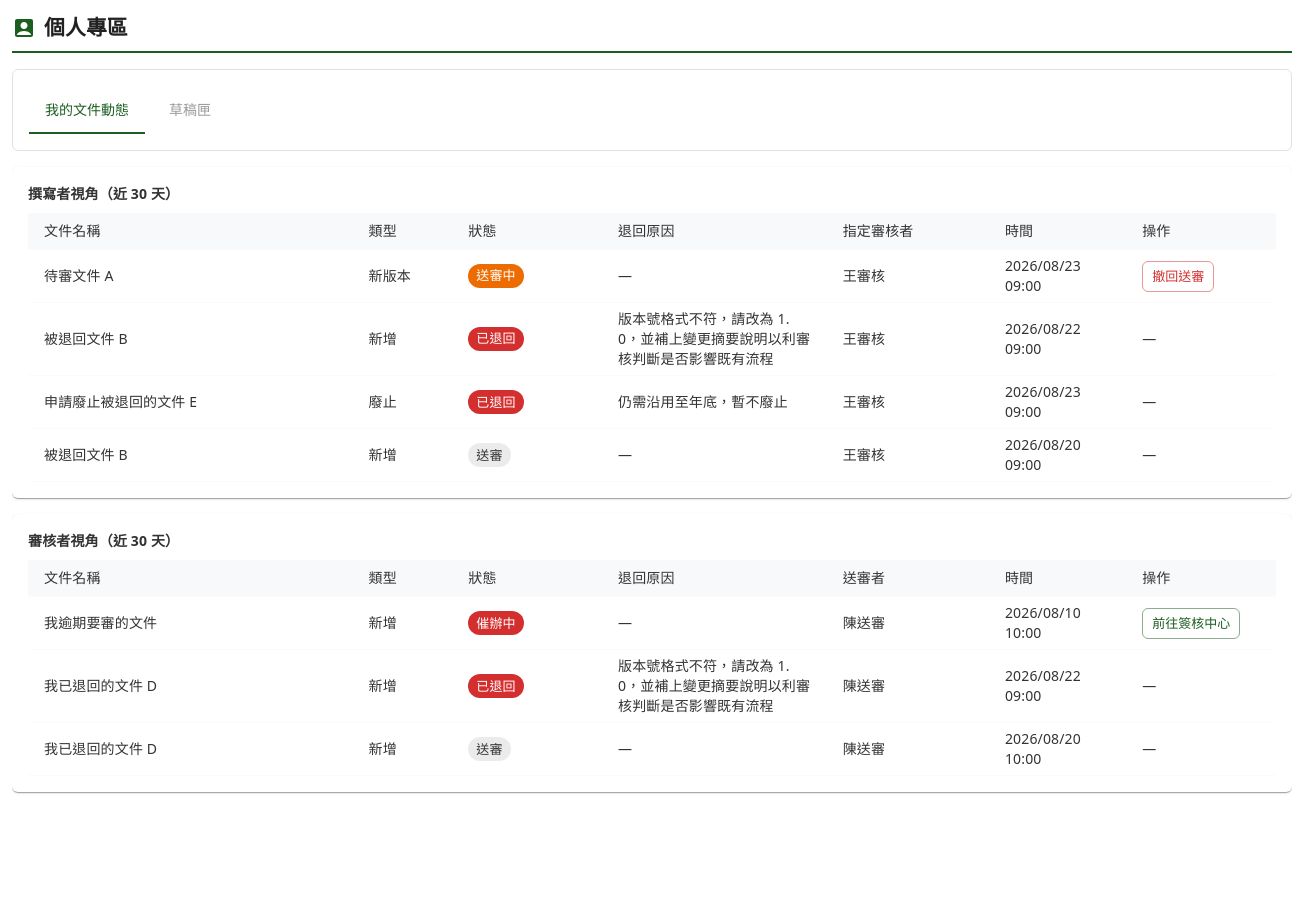
it: DmPersonalPage 個人專區（DM04） › 草稿匣：父文件在廢止待簽核時「繼續編輯」一併灰化，並說明原因（#615）
Click the tab "草稿匣" at (190, 110), box [145,86,235,134]
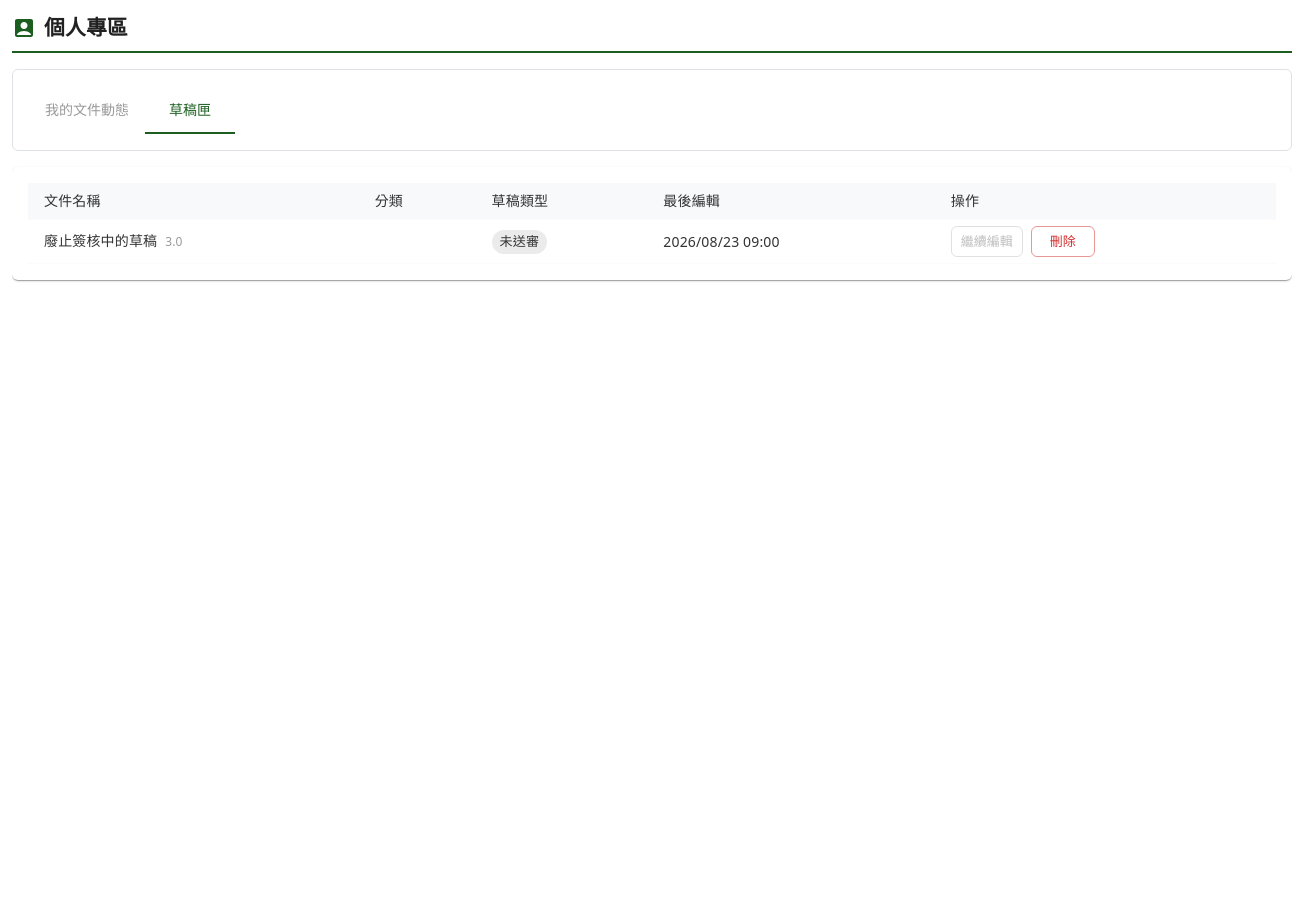
Check: the text "廢止簽核中的草稿" is shown, box [44,231,157,250]
Check: the button "繼續編輯" is disabled
// 「有原因」：hover 後 tooltip 說明為何暫時不能編，且**不是**已廢止那句（兩者原因不同）
Hover over the element showing "繼續編輯" at (987, 242), box [951,226,1023,257]
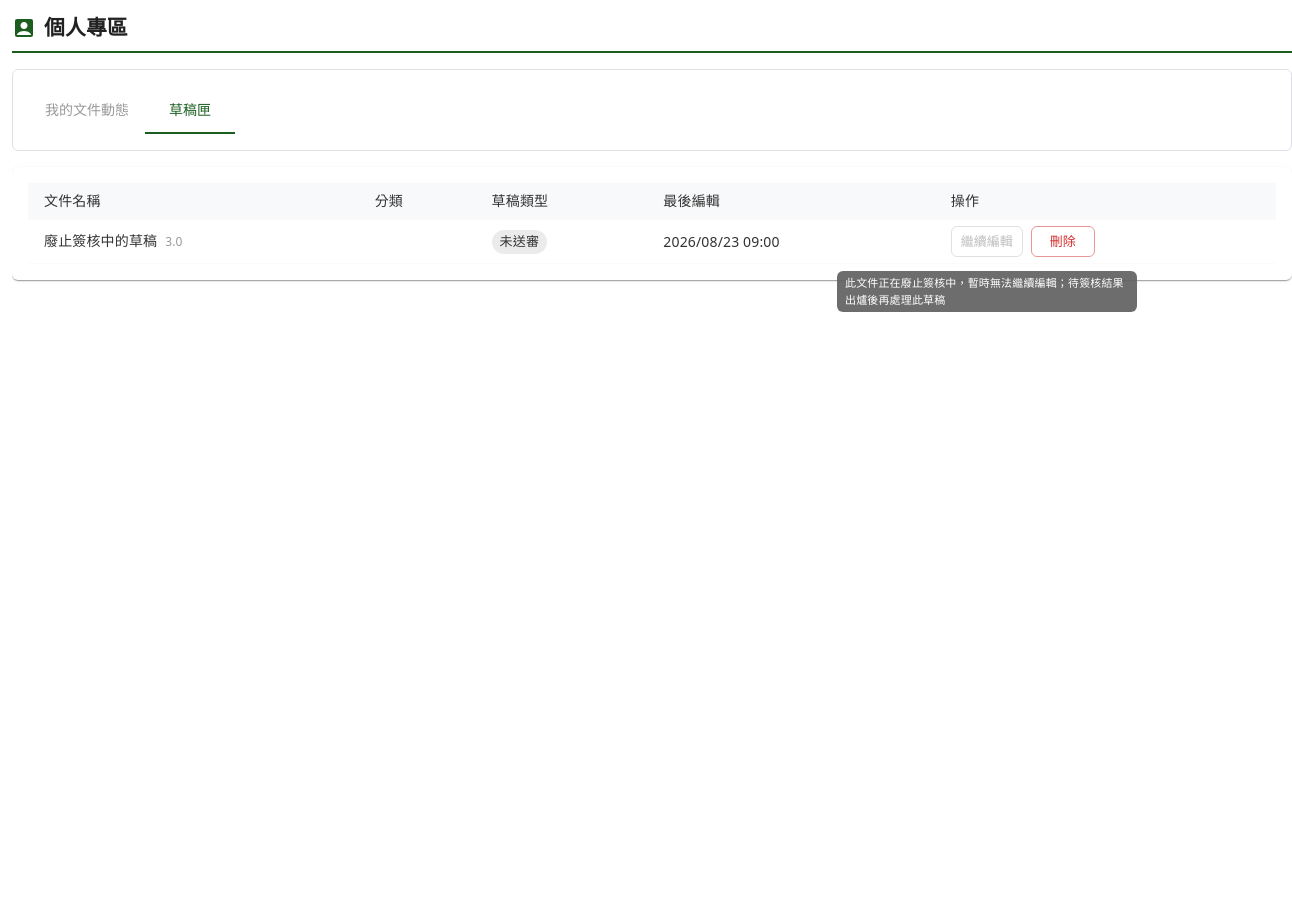
Check: the button "刪除" is shown, box [1031,226,1095,257]
Check: the text "此文件正在廢止簽核中，暫時無法繼續編輯；待簽核結果出爐後再處理此草稿" is shown, box [837,271,1137,312]
